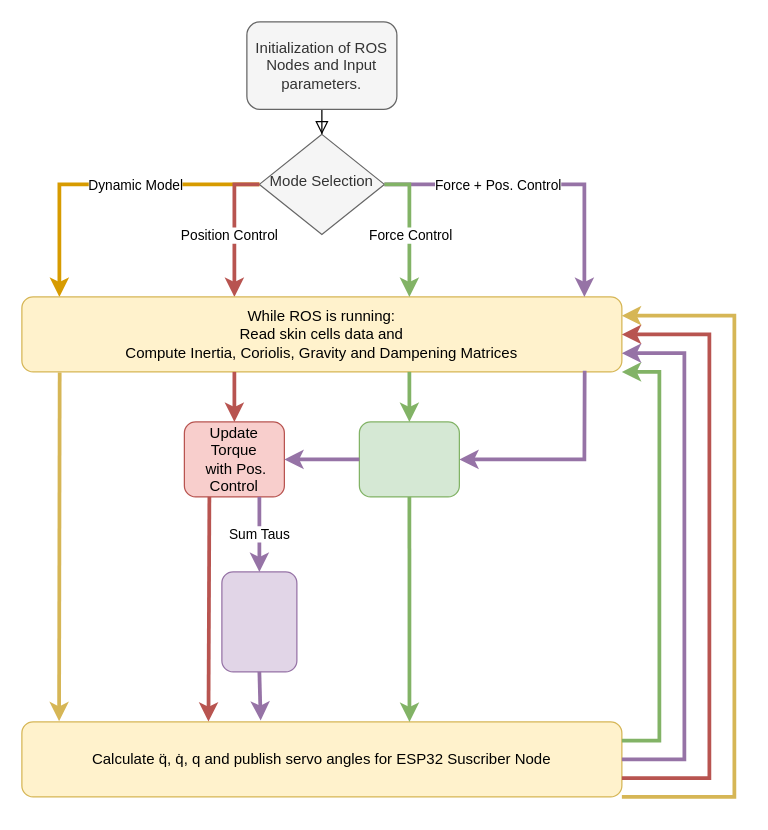
Image size: 768x830. Some labels were removed from this diagram. The centre of each missing label's shape, as x and y in pixels:
"Intention Detection: Target Position Update" goes at (x=259, y=621).
"Update Torque with Force Control" goes at (x=408, y=459).
